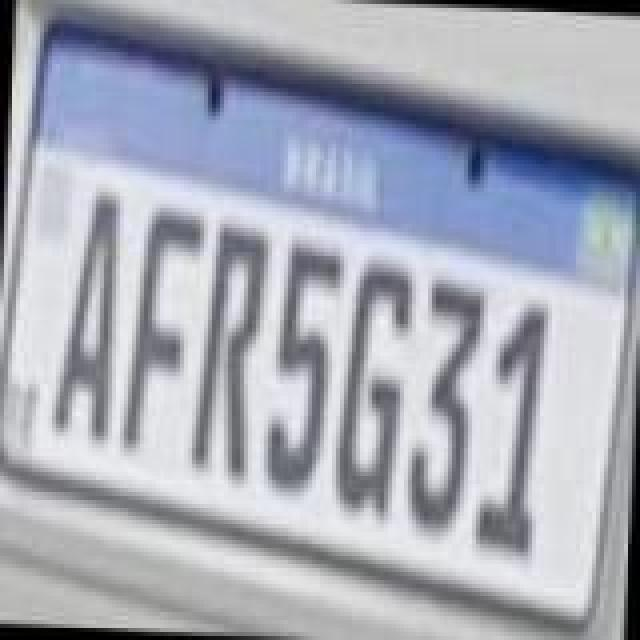1: (472, 300, 548, 564)
3: (404, 274, 488, 538)
5: (264, 236, 344, 500)
A: (54, 192, 122, 456)
F: (120, 208, 208, 460)
G: (334, 258, 414, 526)
R: (192, 218, 272, 482)
